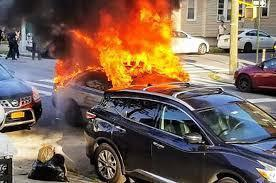fire: (49, 1, 192, 89)
